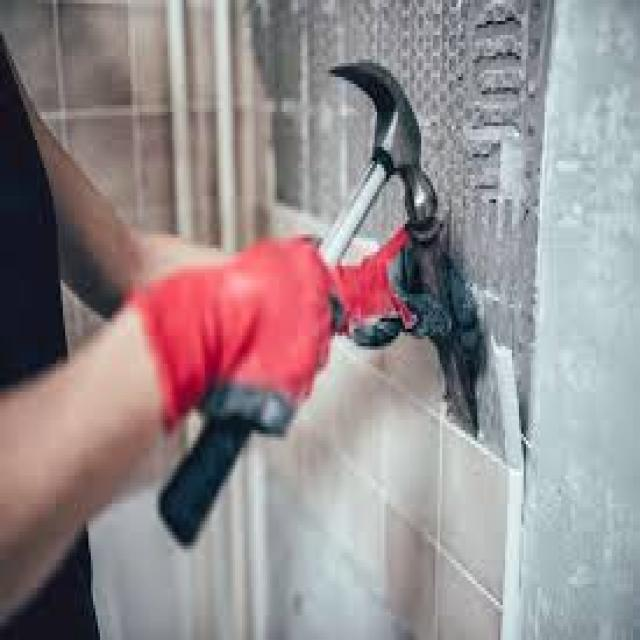hammer: (264, 39, 474, 257)
